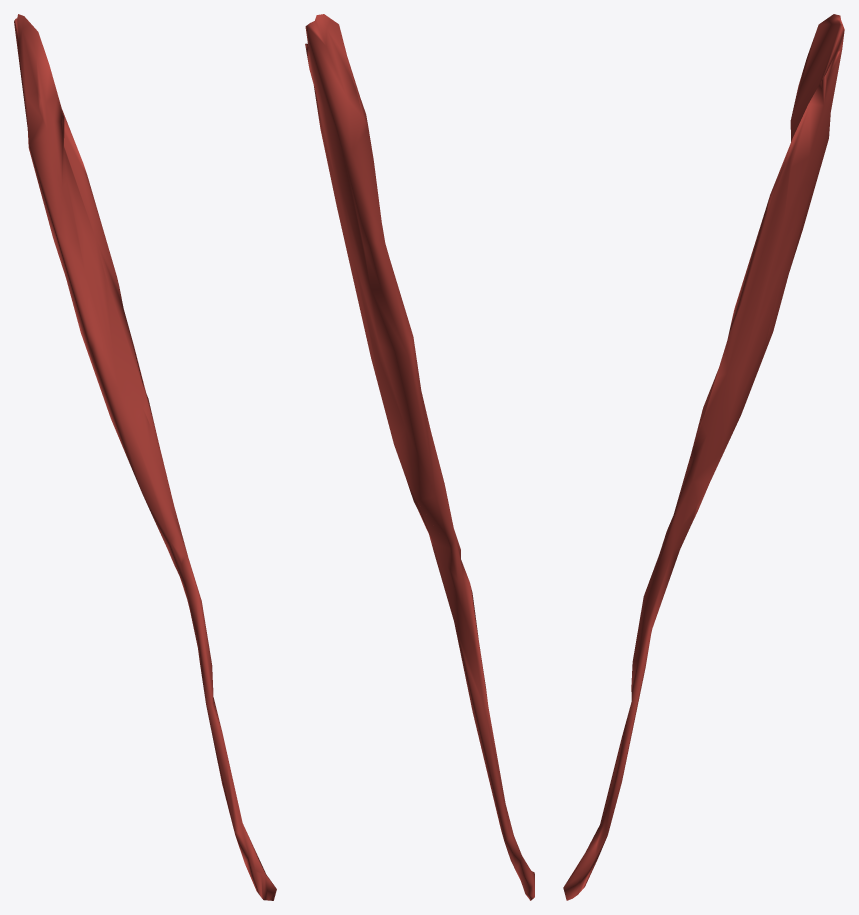
The model's file is musculos-ulnar-head-of-extensor-carpi-ulnaris-r.glb.
The picture shows the model from 3 angles, left to right: view 1: azimuth 90°, elevation 25°; view 2: azimuth 150°, elevation 25°; view 3: azimuth 270°, elevation 25°; orthographic projection. The views are drawn at different scales.
Visible parts, largest first — view 1: Ulnar head of extensor carpi ulnaris.r; view 2: Ulnar head of extensor carpi ulnaris.r; view 3: Ulnar head of extensor carpi ulnaris.r.
Boxes of the visible parts, x1,y1,x2,y2 form: Ulnar head of extensor carpi ulnaris.r: (14,14,276,900); Ulnar head of extensor carpi ulnaris.r: (305,14,534,900); Ulnar head of extensor carpi ulnaris.r: (563,14,844,900).
Size of the model in its own units: 0.0231 by 0.2049 by 0.057.
